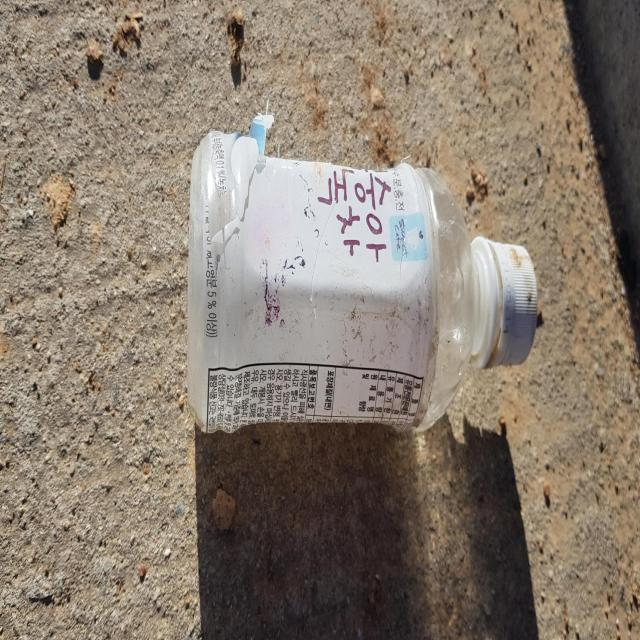plastic: (187, 113, 538, 432)
